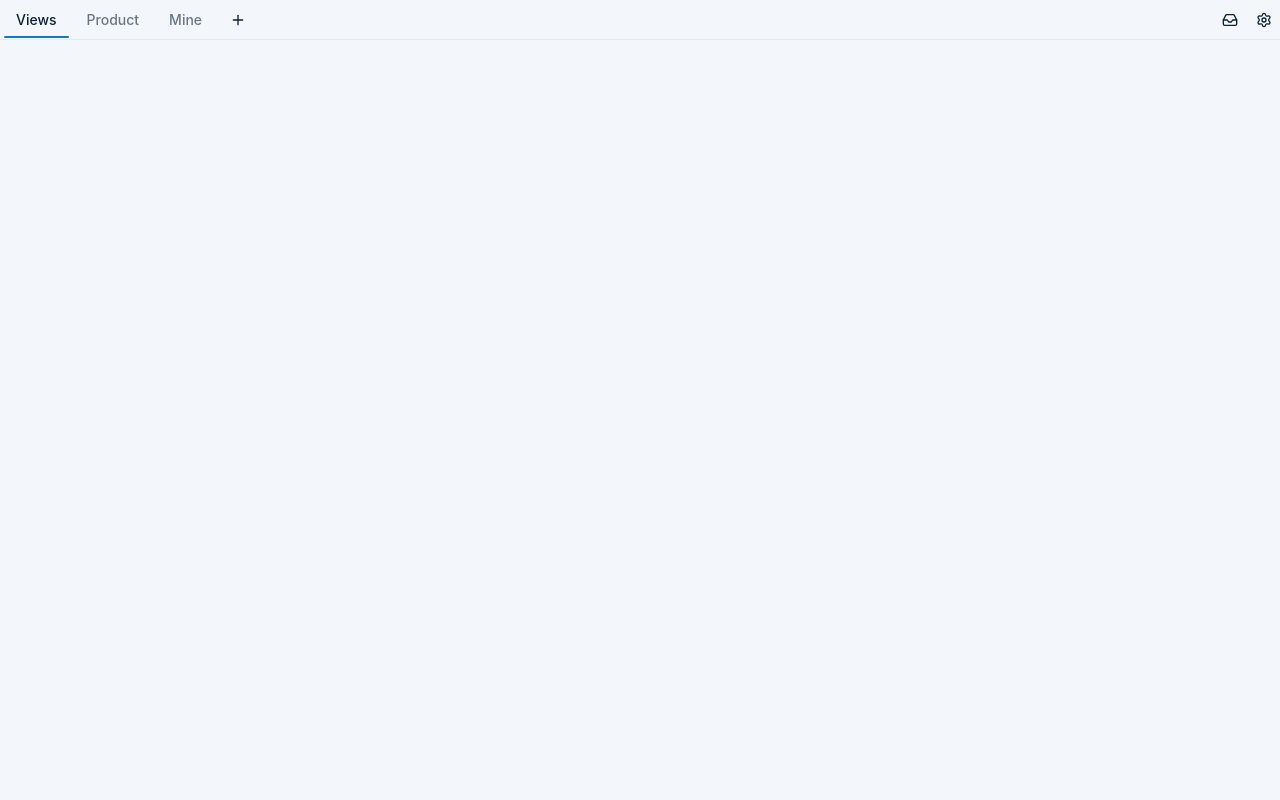
Test: ProjectTabBar › New dashboard… › asks for two characters before Create is enabled
Click the button named "Add tab" at (238, 20), box [222, 4, 254, 36]
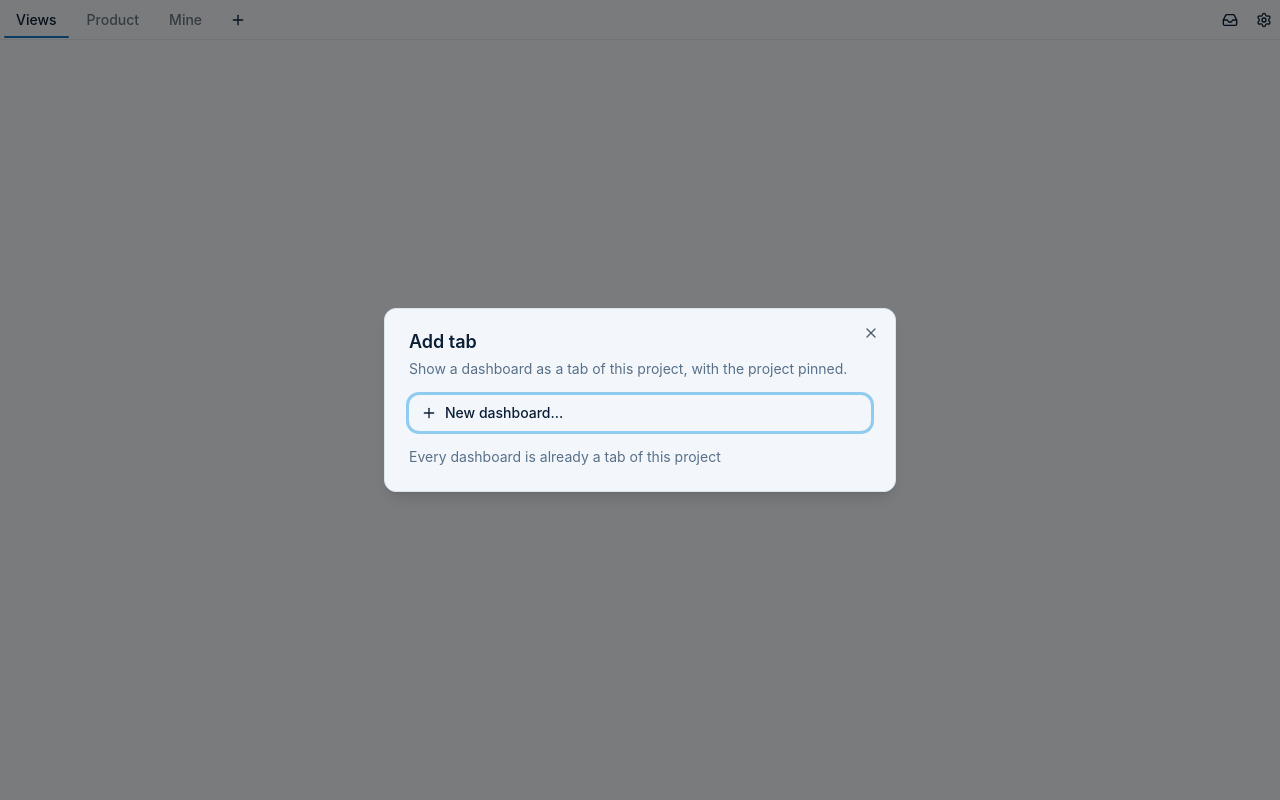
Click the button "New dashboard…" at (504, 412), box [409, 395, 871, 431]
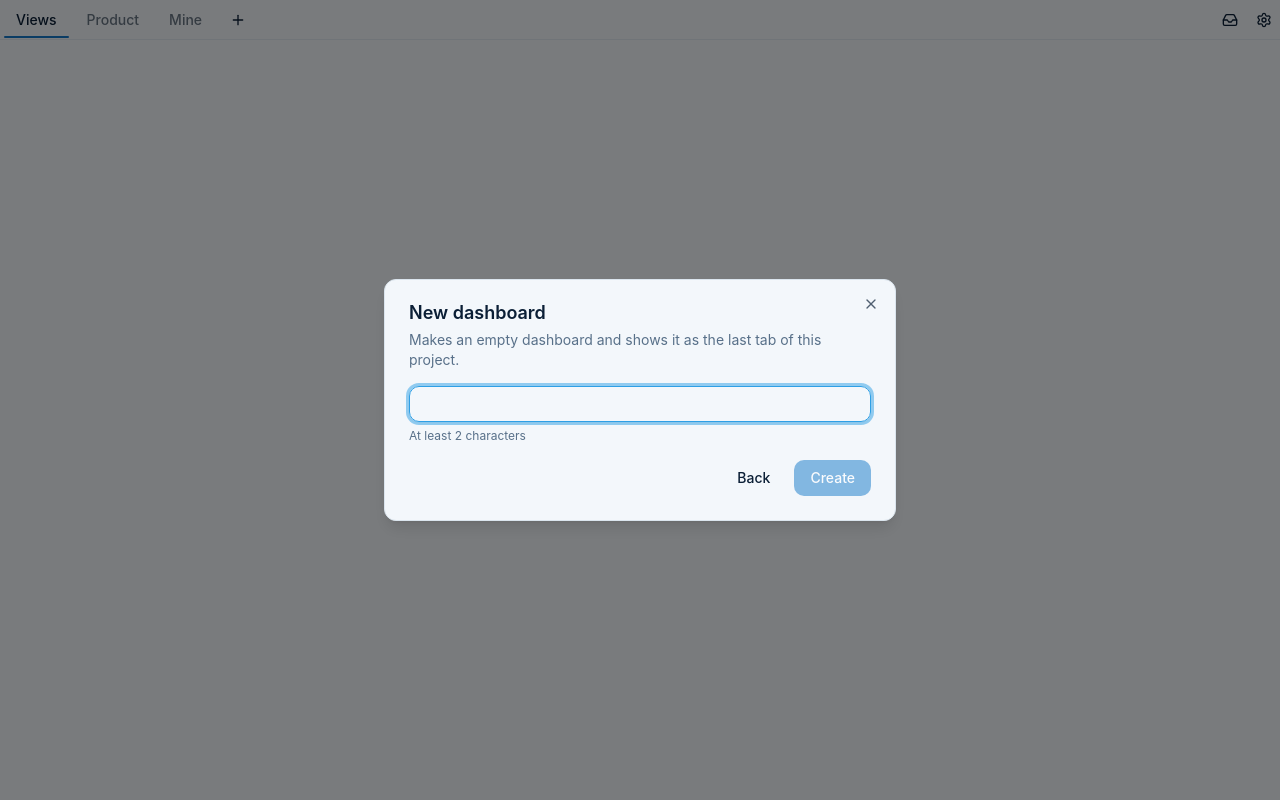
Type "A" into the field named "Dashboard title" at (640, 404), box [409, 386, 871, 422]
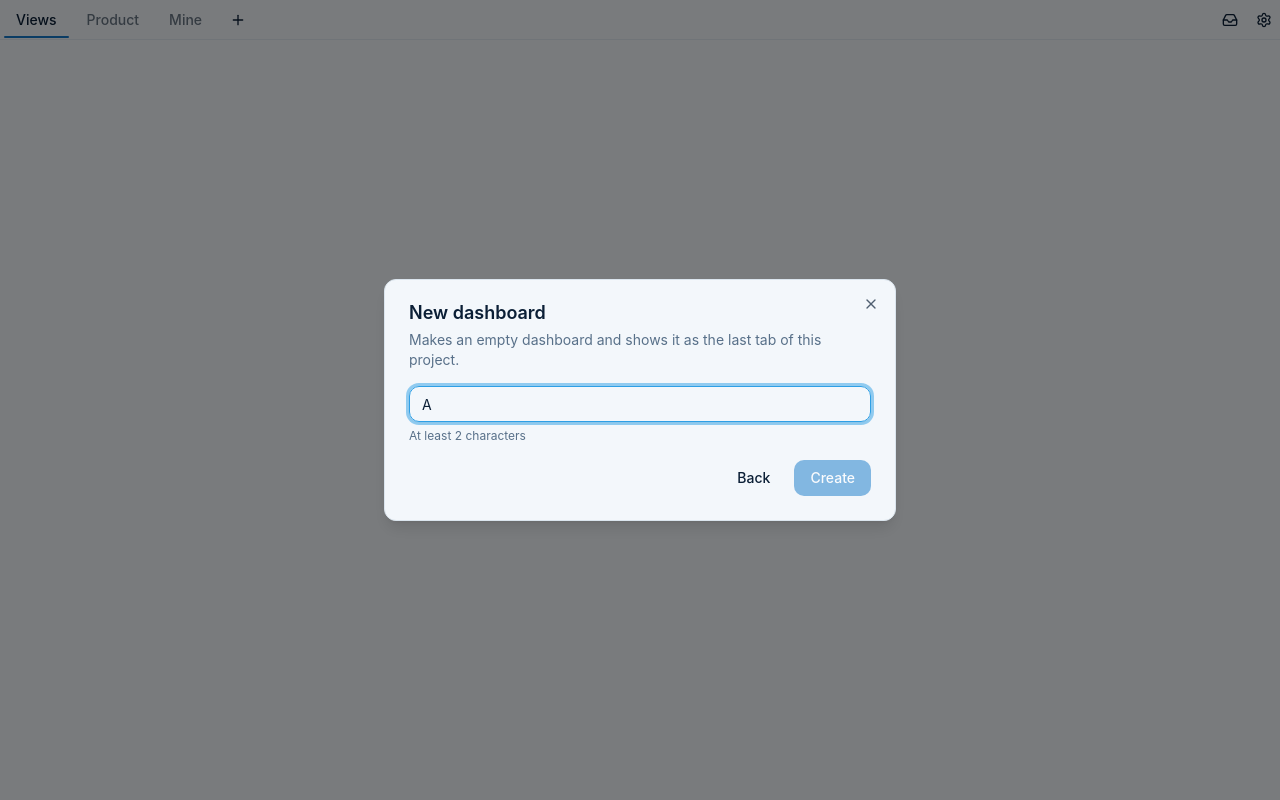
Result: the text "At least 2 characters" is shown at [409, 428, 526, 443]
Result: the button "Create" is disabled at [794, 460, 871, 496]
Type "B" into the field named "Dashboard title" at (640, 404), box [409, 386, 871, 422]
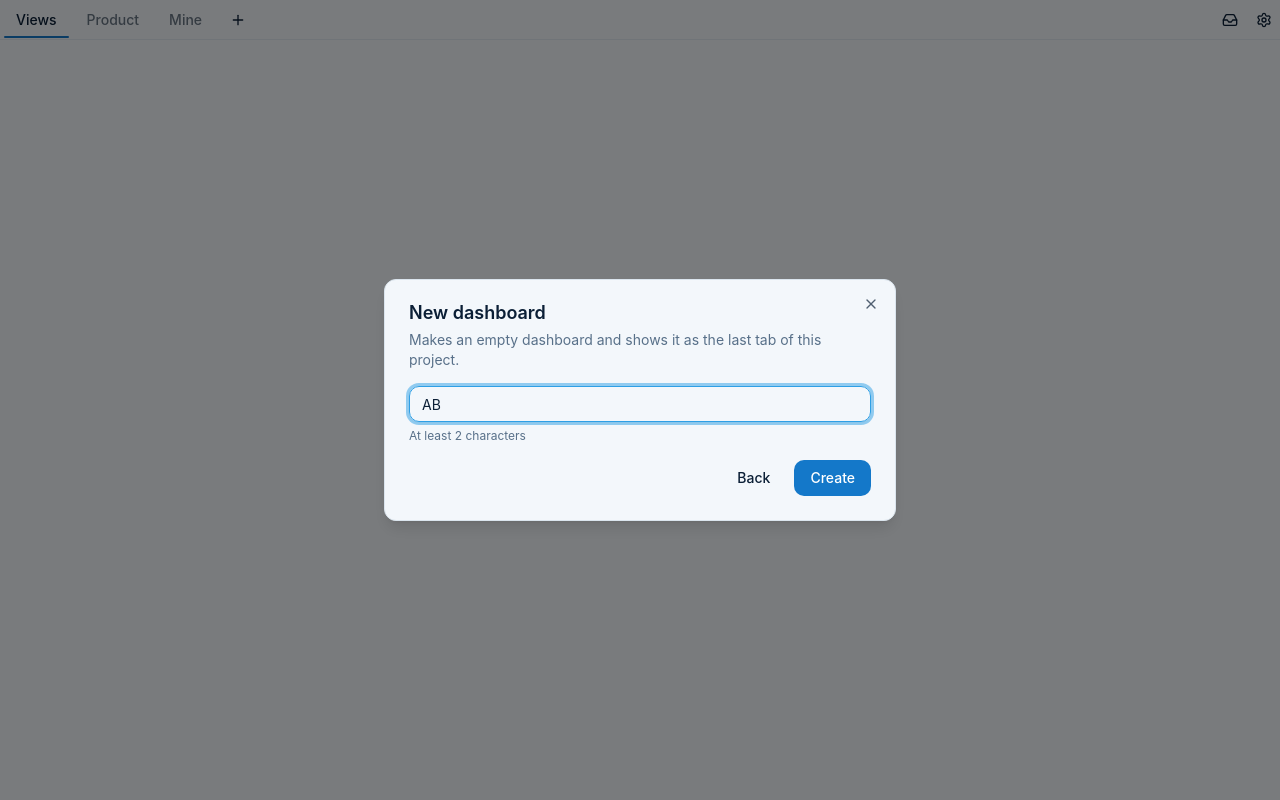
Result: the button "Create" is enabled at [794, 460, 871, 496]
